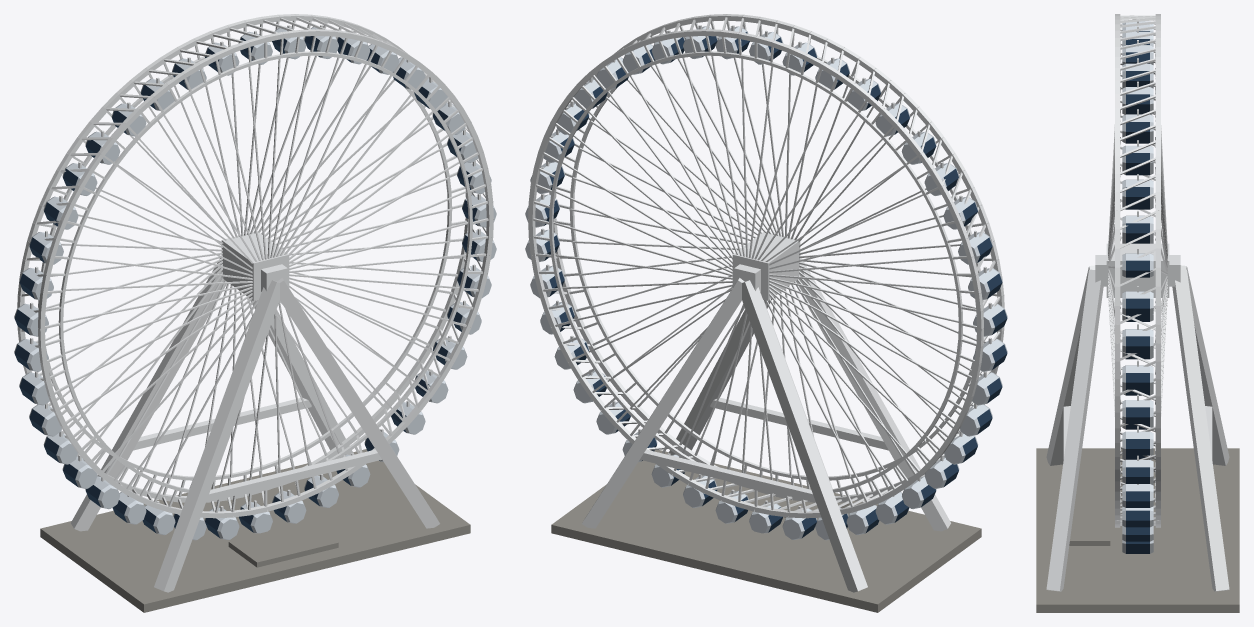
File: navy_pier_wheel.glb
3 renders of one model, left to right at view 1: azimuth 30°, elevation 25°; view 2: azimuth 150°, elevation 25°; view 3: azimuth 270°, elevation 25°, orthographic.
Parts seen in each view (by area): view 1: wheel_rotor, wheel_stand; view 2: wheel_rotor, wheel_stand; view 3: wheel_stand, wheel_rotor.
Part boxes in pixels (x1,y1,x2,y2): wheel_rotor: (14,14,496,540); wheel_stand: (40,258,470,612); wheel_rotor: (525,14,1007,540); wheel_stand: (551,255,981,612); wheel_stand: (1036,255,1239,612); wheel_rotor: (1106,14,1169,553).
Bounding box in the file's own units: 57.55 × 59.27 × 22.
1 material, 1 textured.
